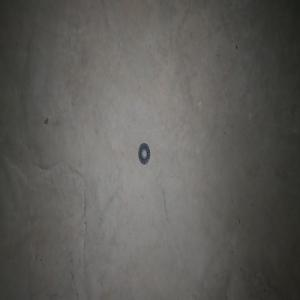Washer: (137, 142, 150, 164)
